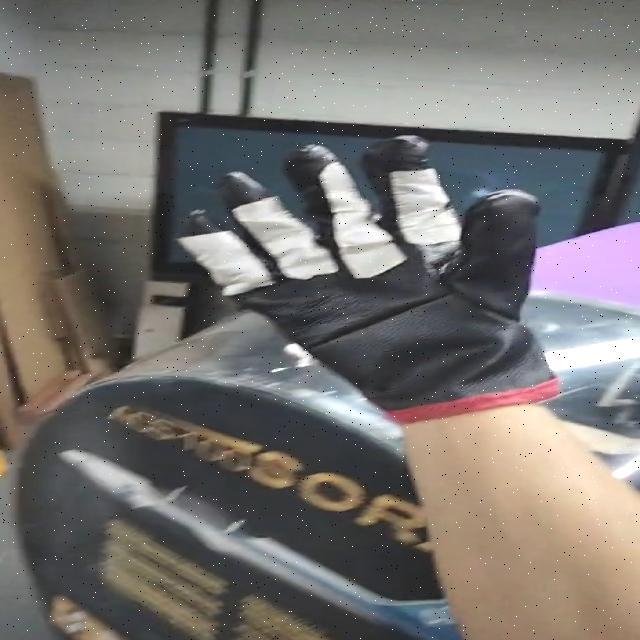Gloves: (160, 140, 574, 422)
